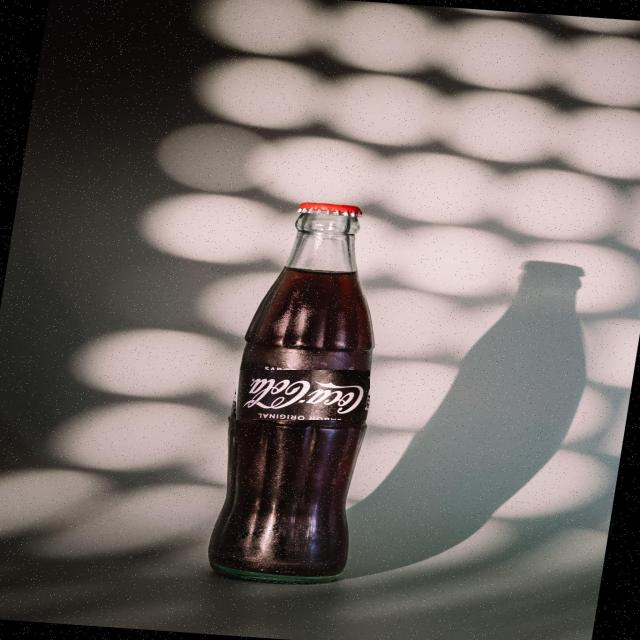coca-cola: (237, 370, 371, 420)
